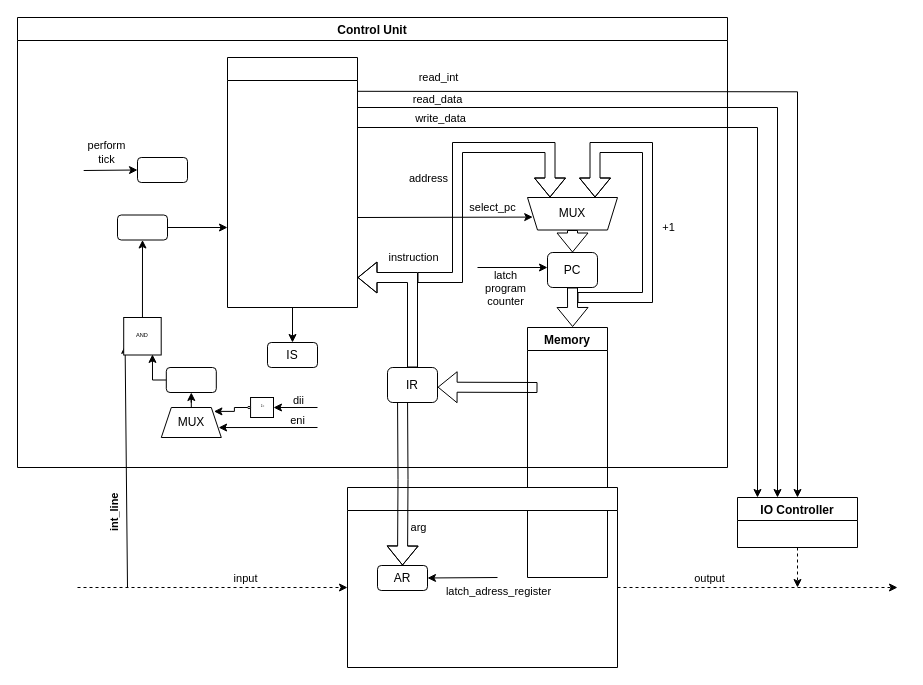
Image size: 923x685. Some labels were removed from this diagram. The box of each missing label's shape, as (x1, y1, x2, y2) in pixels:
Data Path: (346, 486, 618, 668)
IE: (165, 366, 216, 392)
Instruction Decoder: (226, 56, 358, 308)
IRQ: (116, 214, 168, 240)
Tick: (136, 156, 188, 182)
